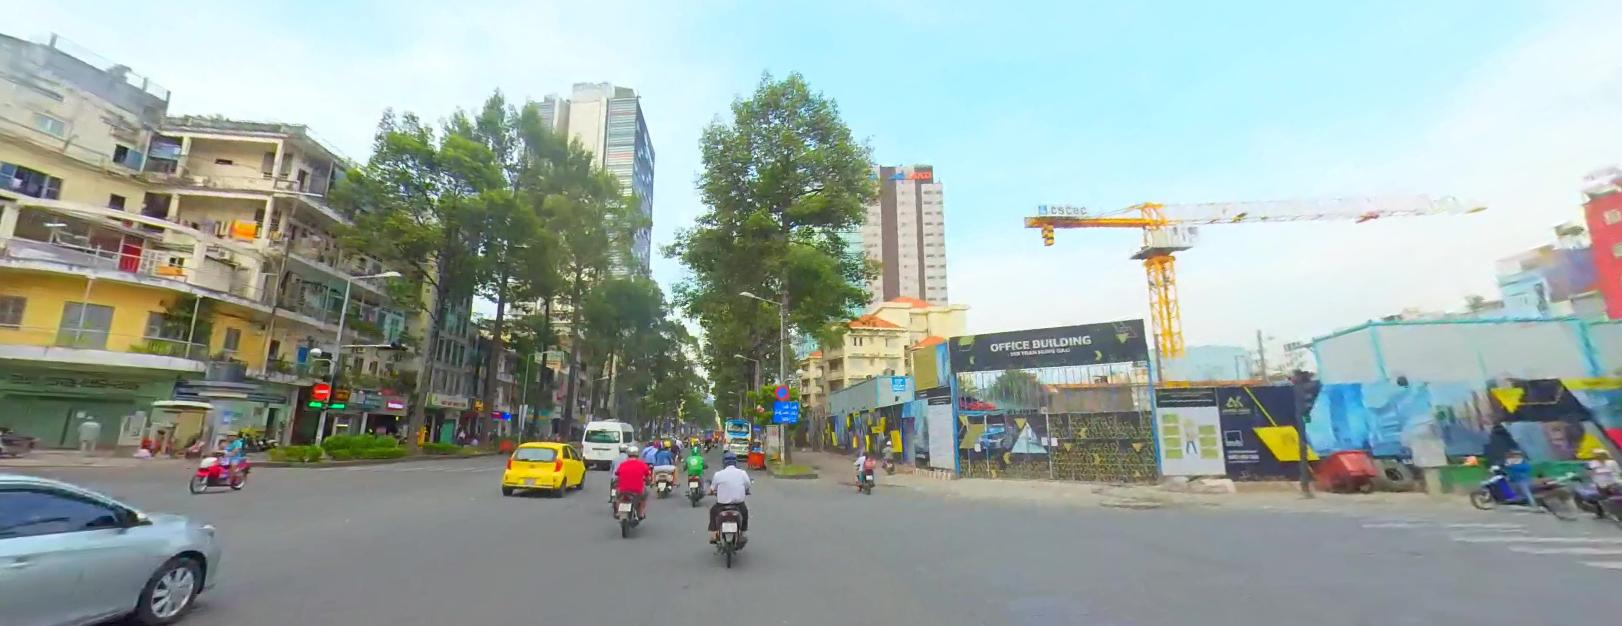Cam dung va do: (775, 384, 789, 398)
Cam nguoc chieu: (312, 382, 331, 396)
